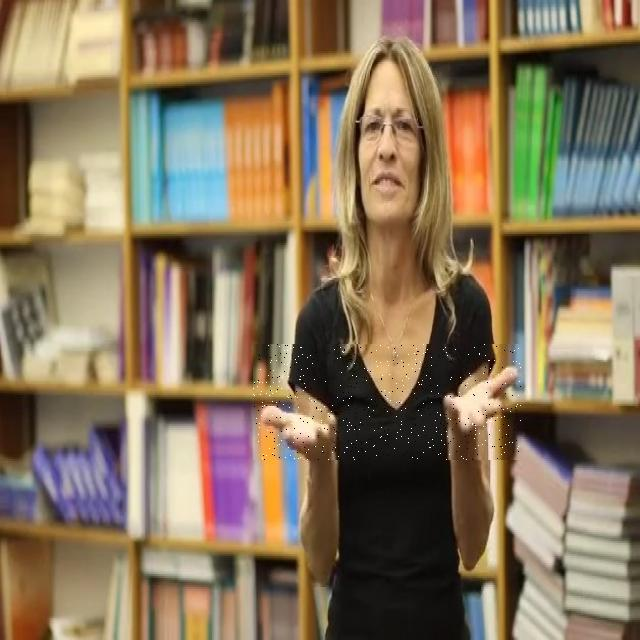what: (254, 344, 522, 460)
